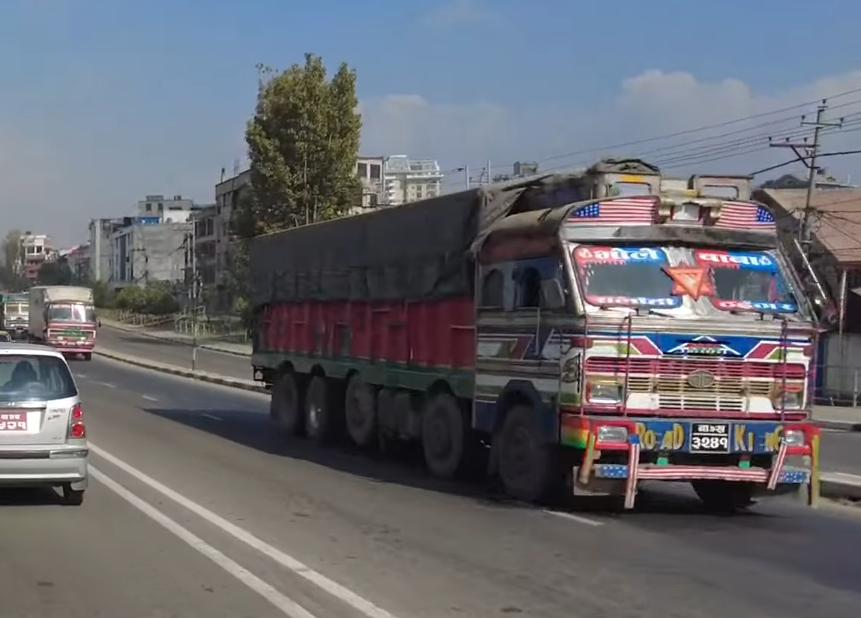car: (0, 342, 89, 505)
truck: (244, 158, 835, 512), (26, 284, 100, 360), (0, 289, 35, 338)
